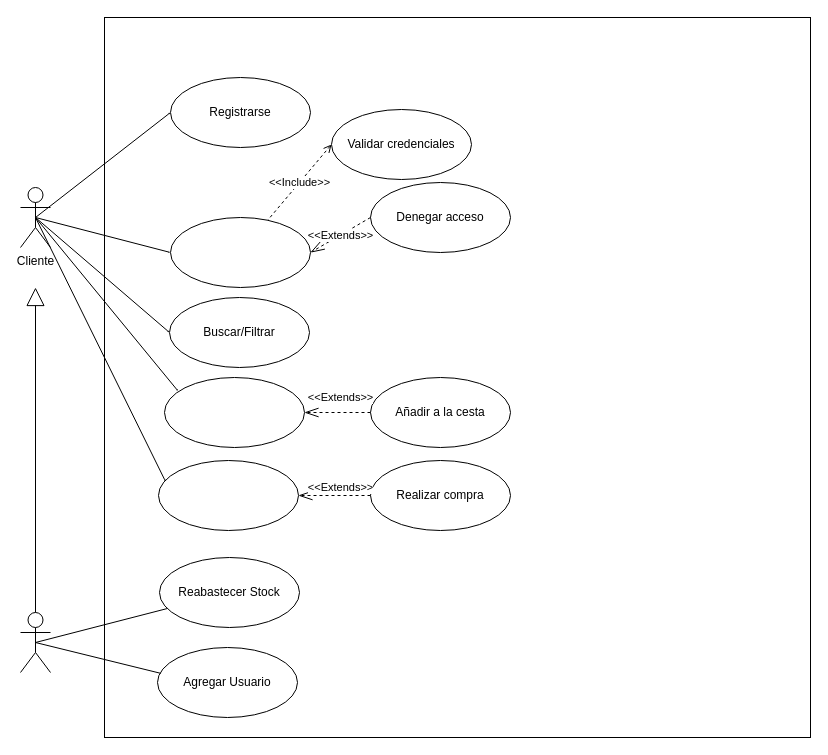
This 828x755 diagram has some shape labels left out. Each missing label, with the centre of its shape:
"Admin" belongs at (35,642).
"gestión de cesta" belongs at (228,495).
"Iniciar Sesión" belongs at (240,252).
"ver detalles del producto" belongs at (234,412).
